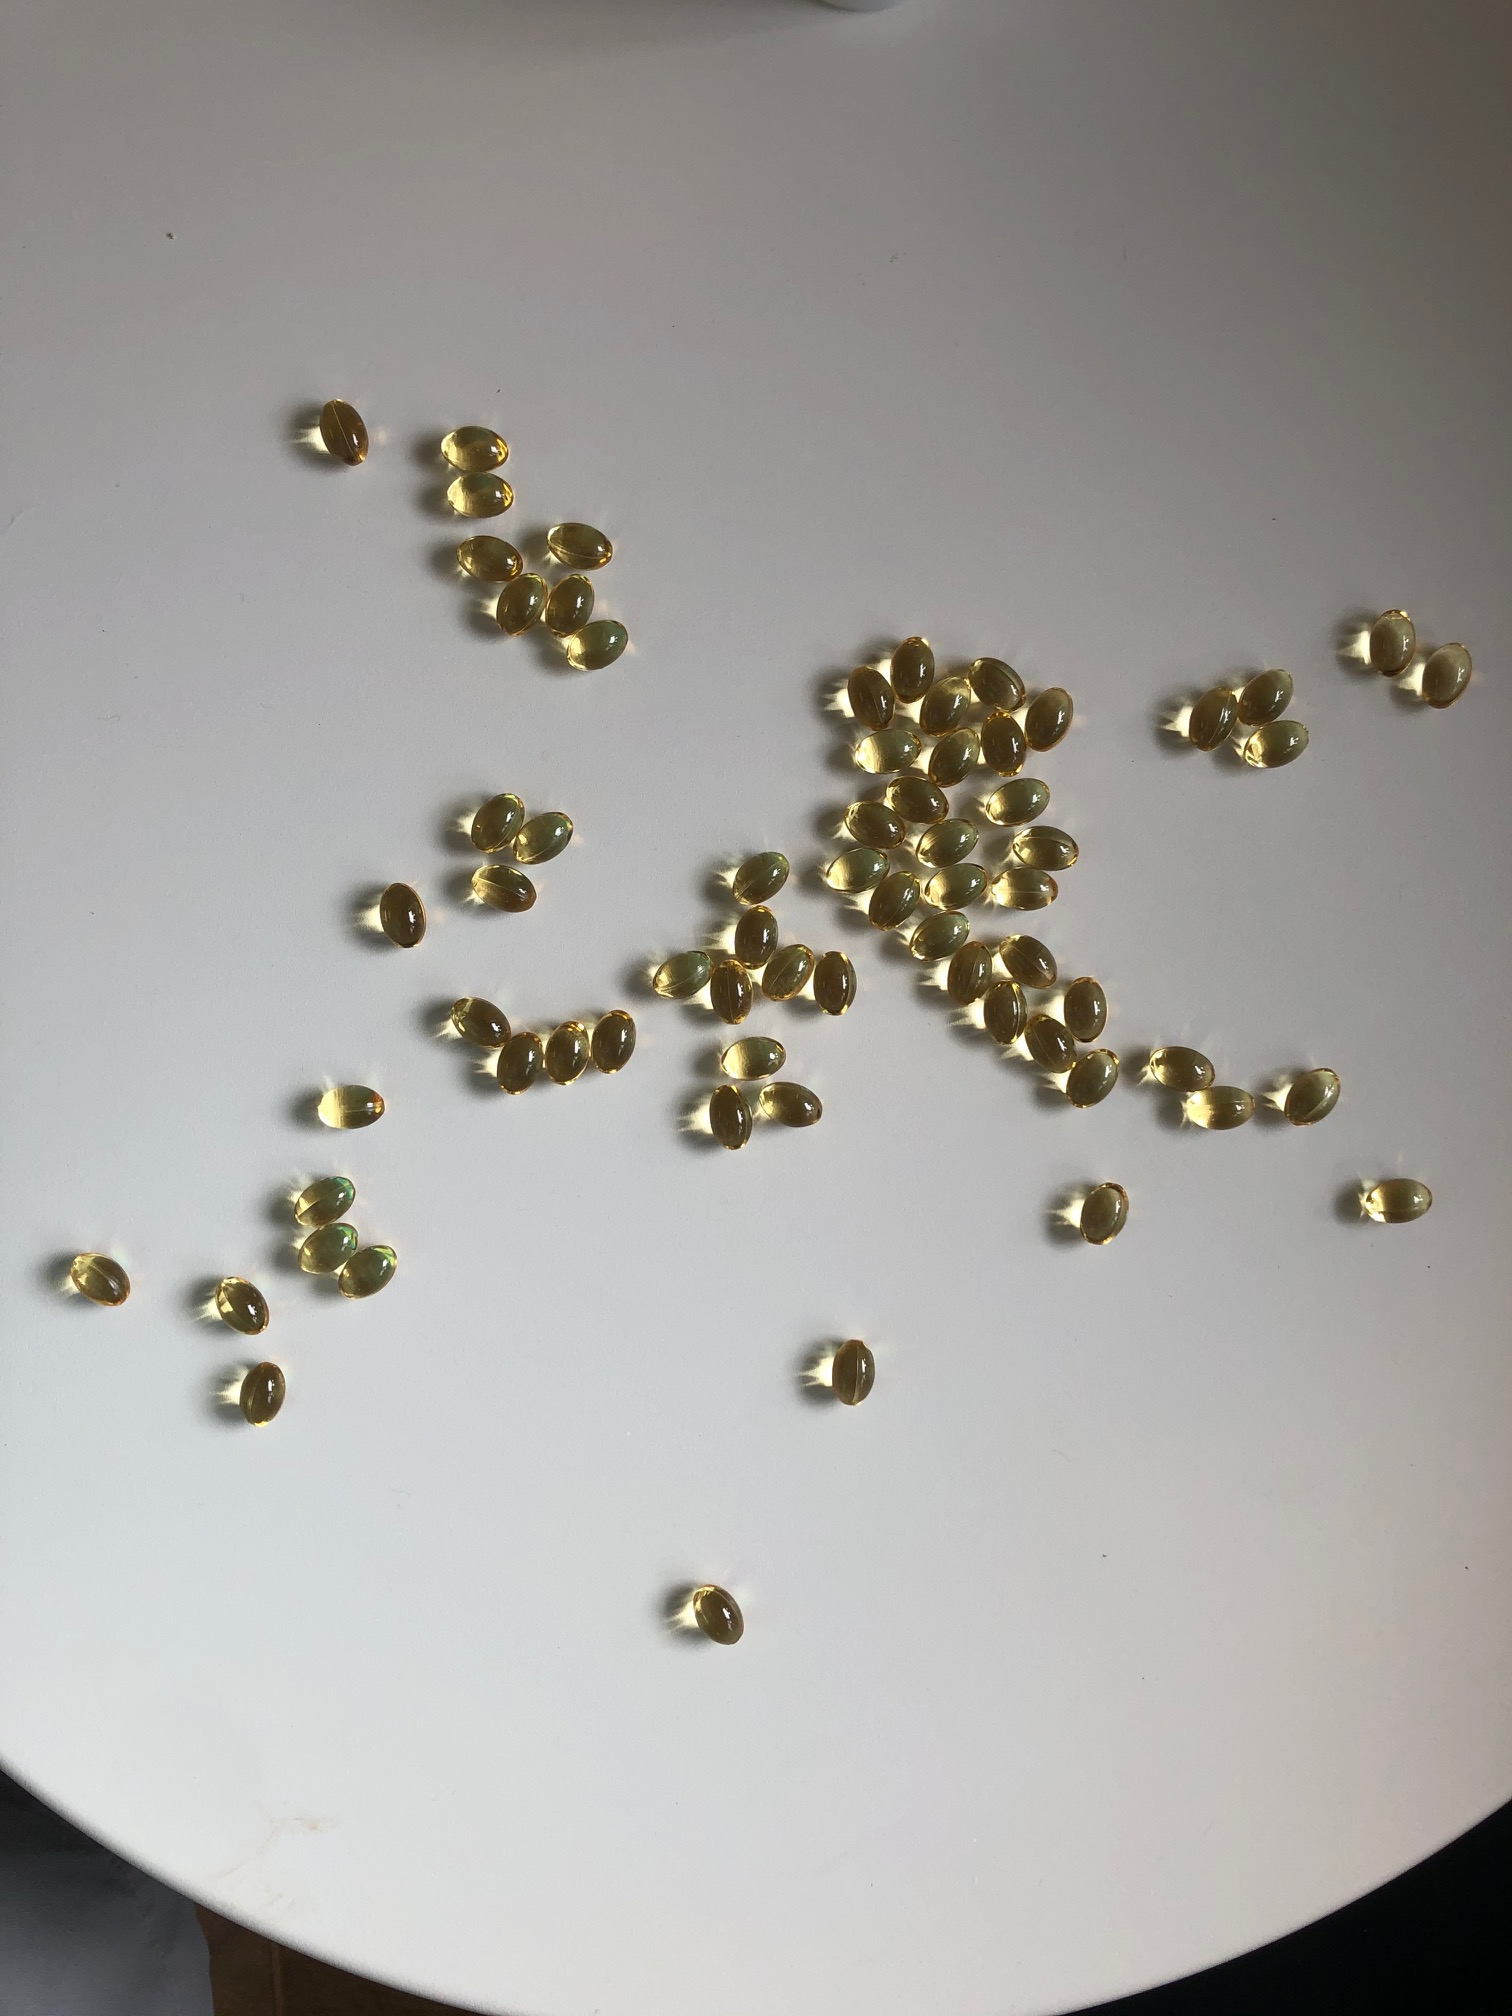gel: (685, 1576, 750, 1654), (993, 925, 1063, 997), (1177, 1079, 1263, 1137), (311, 395, 376, 470), (750, 1075, 827, 1137), (287, 1167, 361, 1232), (1074, 1176, 1137, 1251), (373, 876, 435, 952), (1417, 637, 1477, 714), (978, 771, 1058, 830), (462, 787, 527, 859), (64, 1249, 137, 1313), (985, 862, 1067, 918), (824, 1332, 880, 1414), (1355, 1175, 1437, 1230), (820, 840, 897, 898), (448, 989, 518, 1054), (210, 1268, 272, 1341), (972, 702, 1032, 776), (1020, 1006, 1080, 1081), (1363, 603, 1418, 684), (310, 1076, 388, 1133), (1145, 1041, 1223, 1098), (1279, 1064, 1347, 1129), (330, 1240, 400, 1303), (510, 810, 581, 871), (467, 862, 543, 919), (702, 1079, 758, 1157), (1236, 662, 1301, 727), (866, 867, 931, 932), (877, 771, 953, 827), (1242, 716, 1312, 776), (292, 1219, 362, 1279), (1059, 968, 1110, 1049), (646, 948, 716, 1006), (562, 619, 634, 676), (912, 814, 983, 871), (923, 724, 985, 789), (438, 422, 513, 476), (453, 532, 527, 586), (727, 902, 781, 976), (839, 664, 897, 732), (1009, 824, 1085, 876), (980, 976, 1032, 1052), (496, 568, 550, 641), (704, 956, 758, 1029), (966, 654, 1031, 714), (727, 846, 793, 906), (543, 1016, 596, 1091), (920, 671, 977, 740), (924, 860, 993, 918), (840, 795, 910, 851), (491, 1025, 545, 1097), (238, 1357, 291, 1430), (945, 937, 997, 1010), (1183, 686, 1242, 751), (1066, 1046, 1124, 1111), (588, 1006, 638, 1081), (545, 521, 615, 575), (885, 633, 939, 703), (761, 937, 815, 1006), (848, 725, 923, 775), (1024, 684, 1077, 754), (908, 910, 975, 964), (443, 471, 518, 519), (812, 948, 859, 1022), (716, 1032, 788, 1081), (543, 575, 597, 640)
